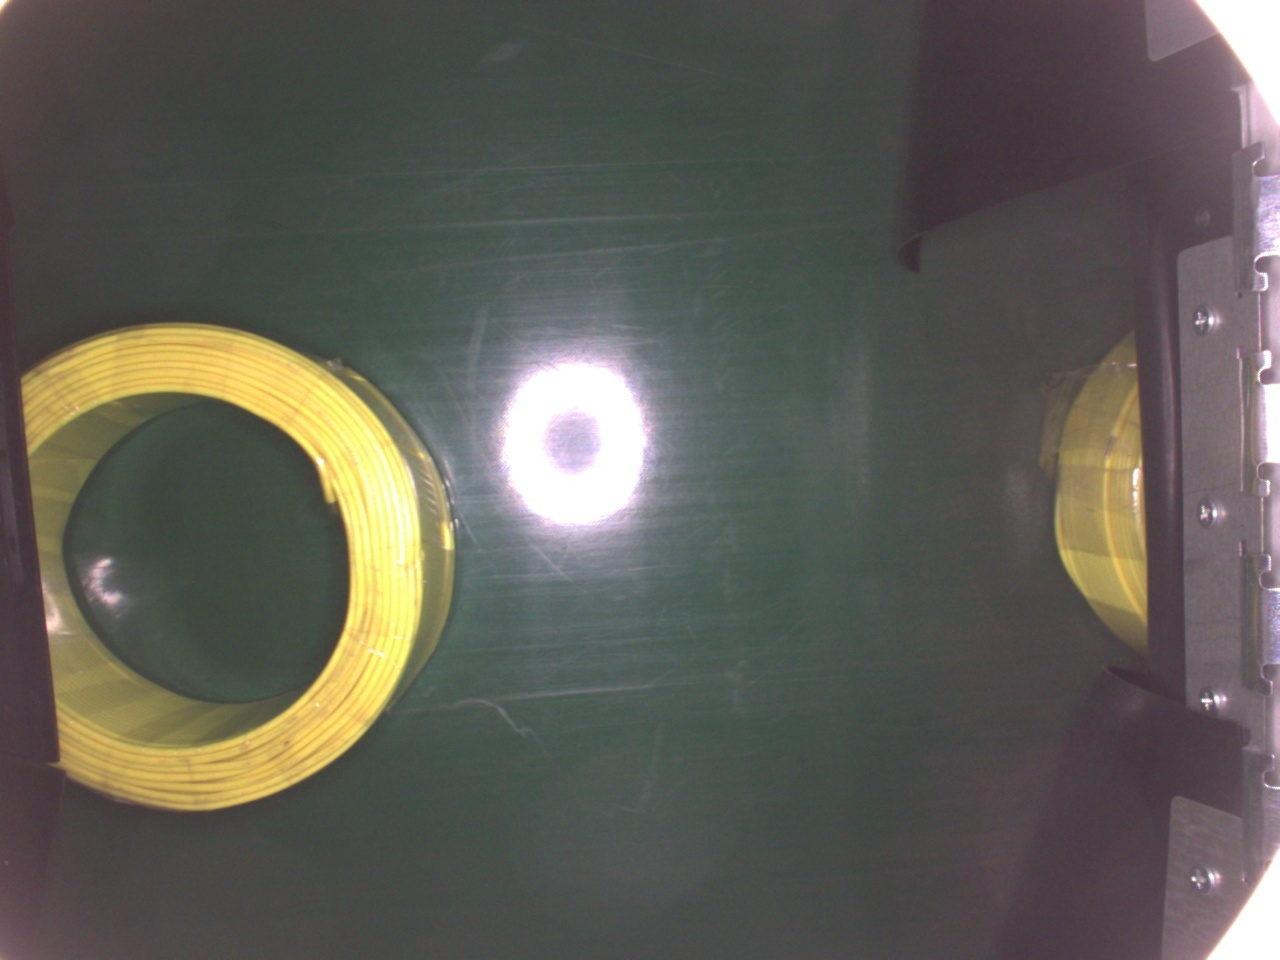yellow: (20, 321, 454, 813)
